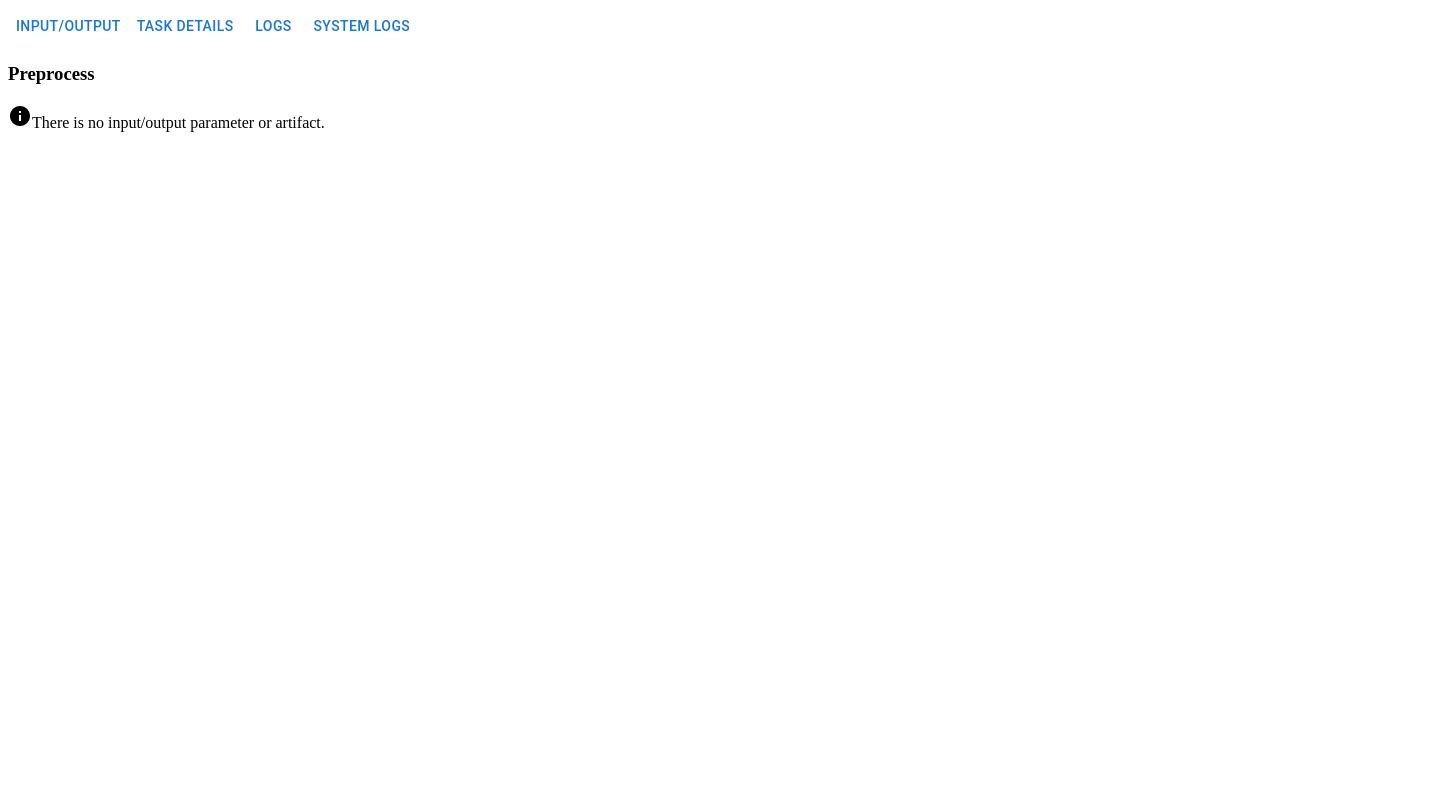
RuntimeNodeDetailsV2 › System Logs › shows artifact-fetch error details and recovers on Refresh without leaving System Logs
Click the button "System Logs" at (362, 26), box [306,8,418,44]
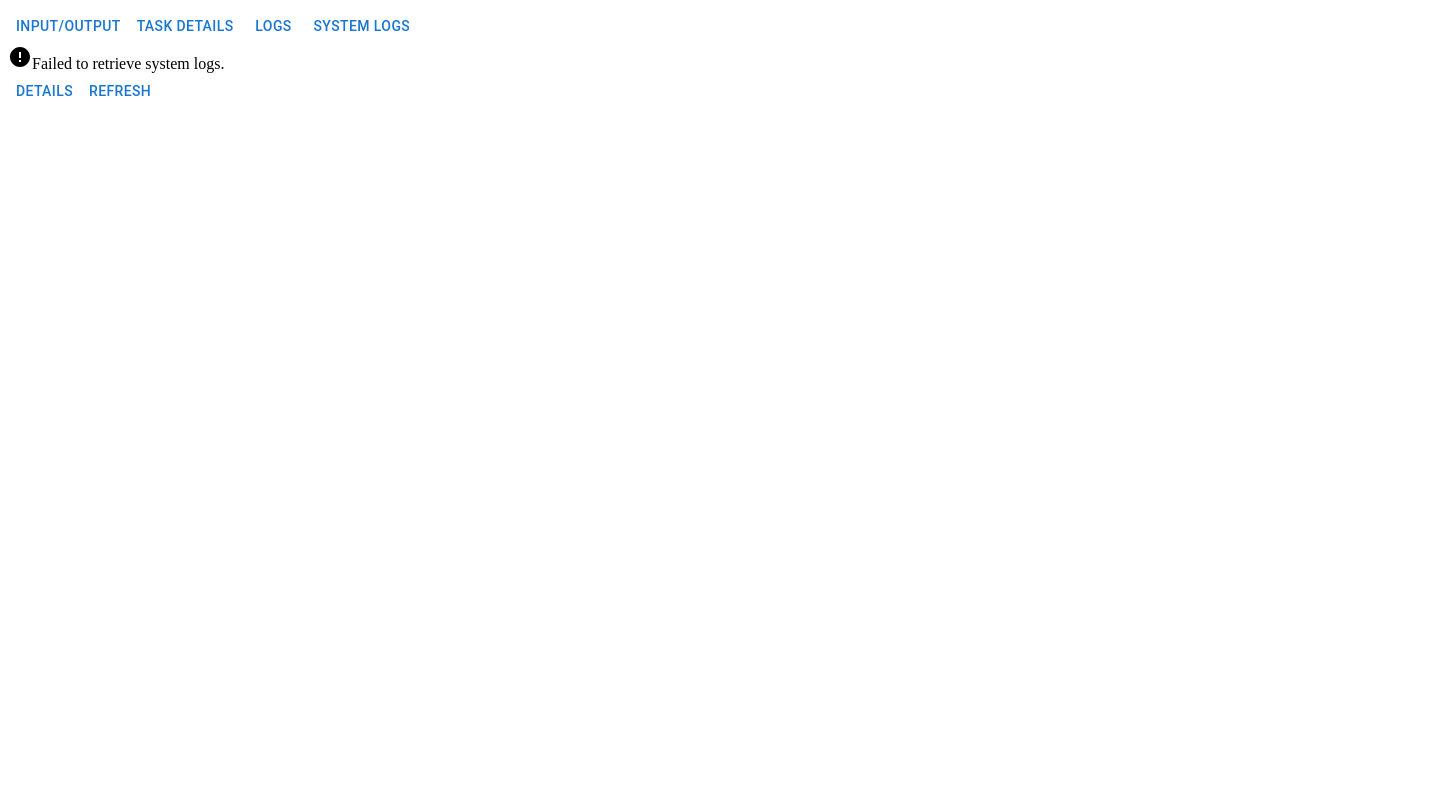
Result: the text "Failed to retrieve system logs." is shown at [8,44,224,72]
Click the button "Details" at (44, 91), box [8,72,81,109]
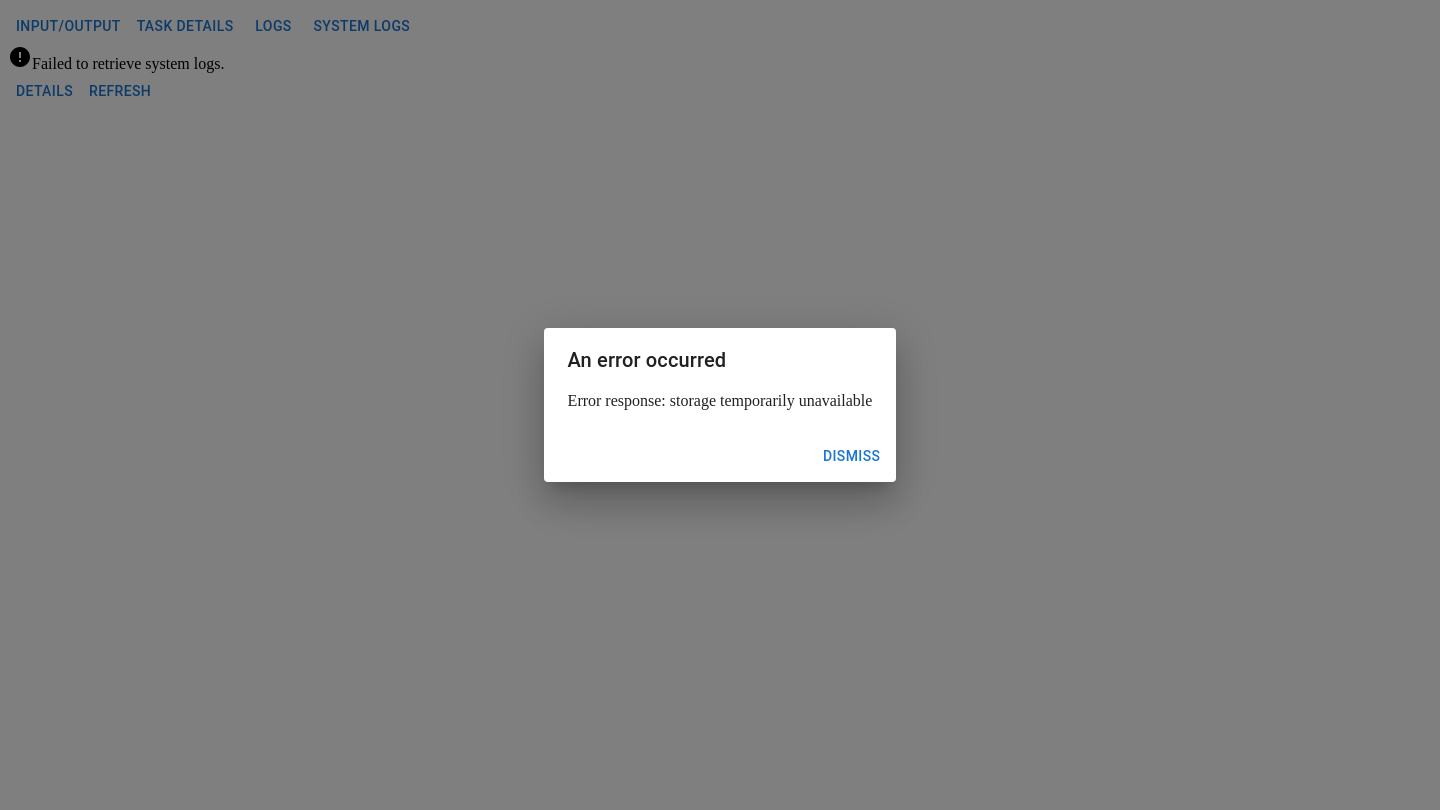
Result: the text "Error response: storage temporarily unavailable" is shown at [568,392,872,409]
Click the button "Dismiss" at (852, 456), box [815,438,888,474]
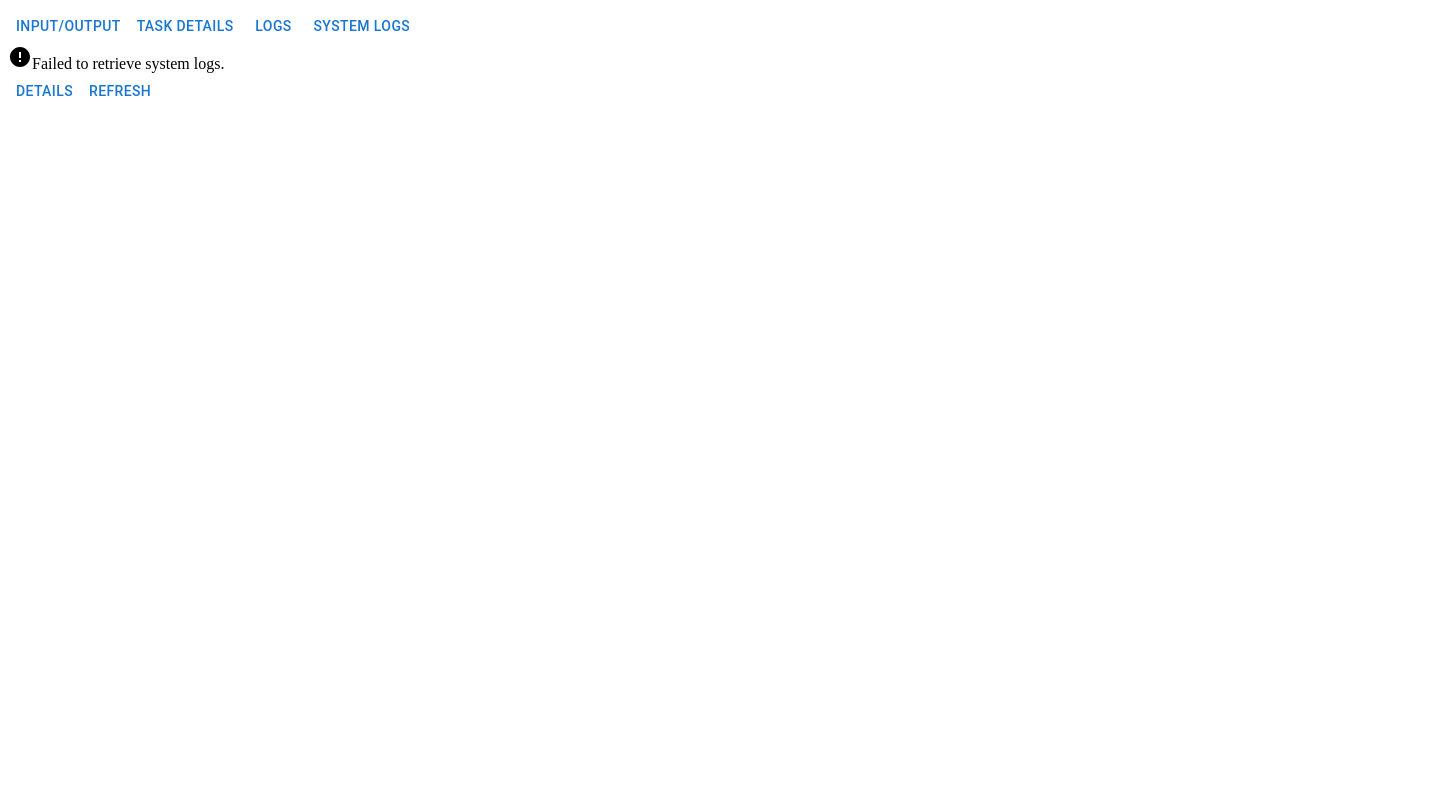
Click the button "Refresh" at (120, 91), box [81,72,159,109]
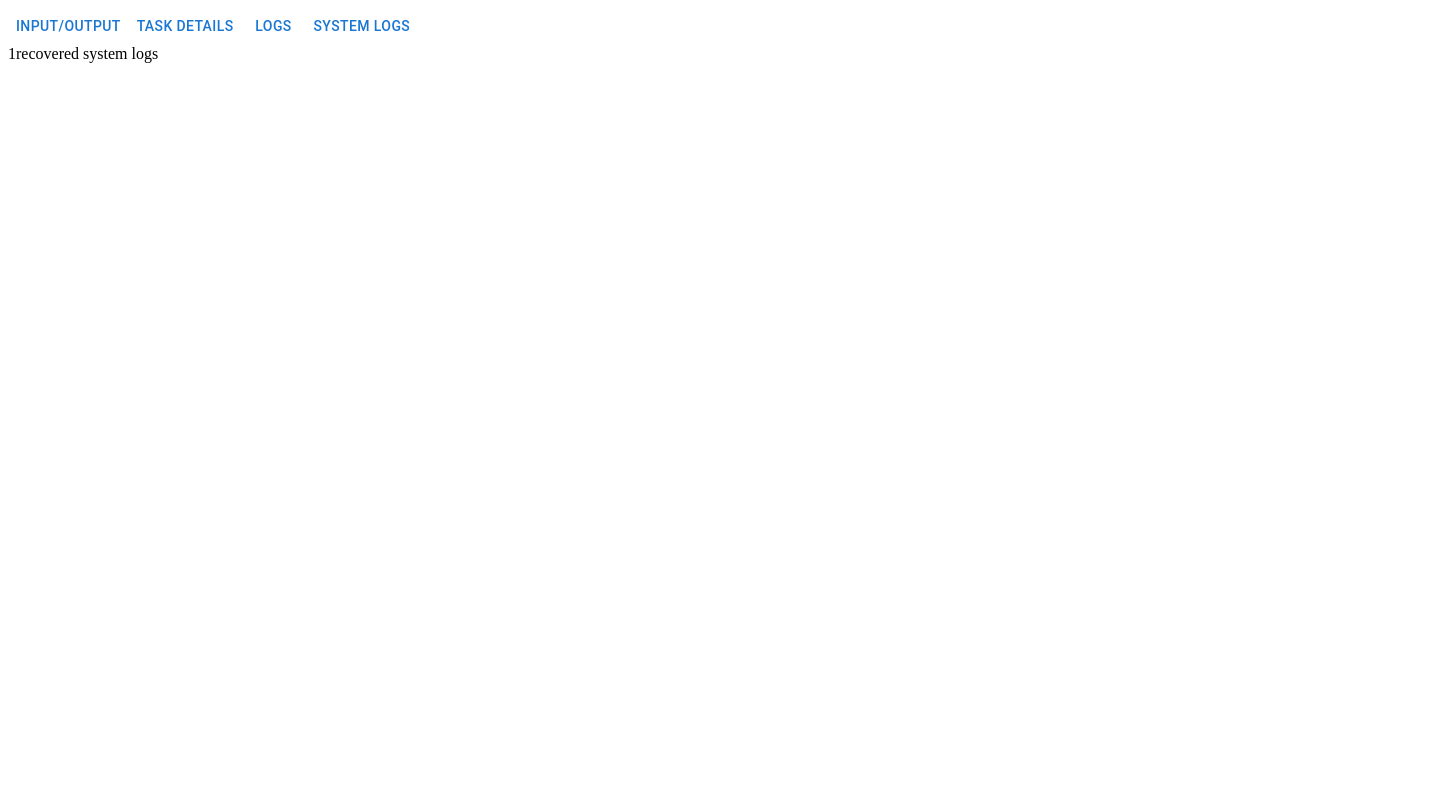
Result: the text "recovered system logs" is shown at [16,44,158,62]
Result: the text "Failed to retrieve system logs." is gone
